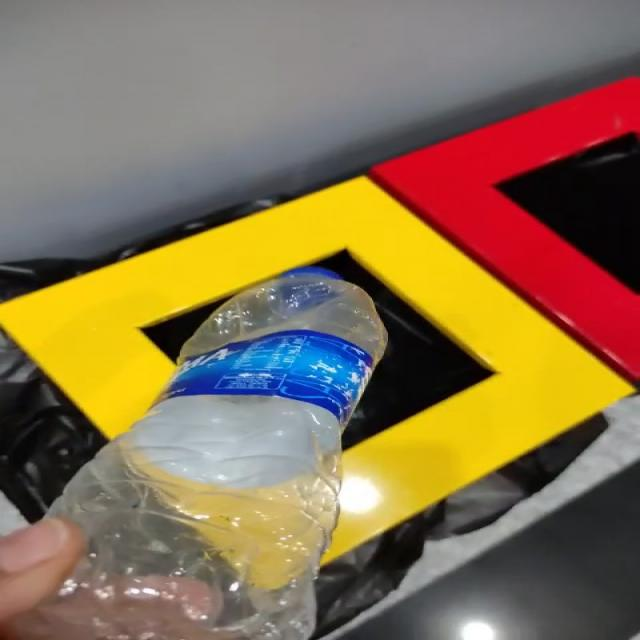plastic: (12, 268, 387, 640)
